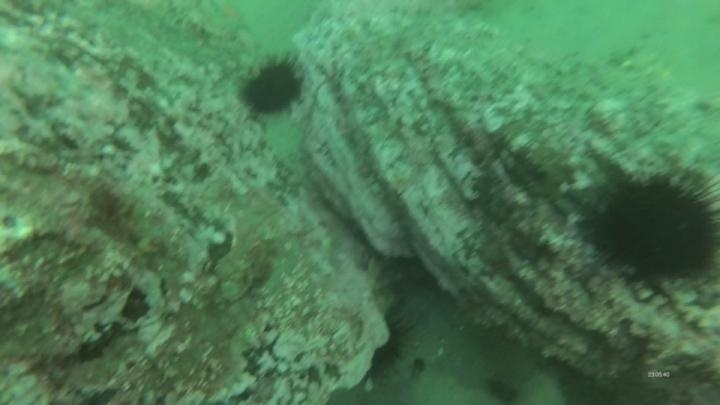echinus: (580, 163, 720, 291), (236, 53, 308, 120), (366, 308, 416, 385)
